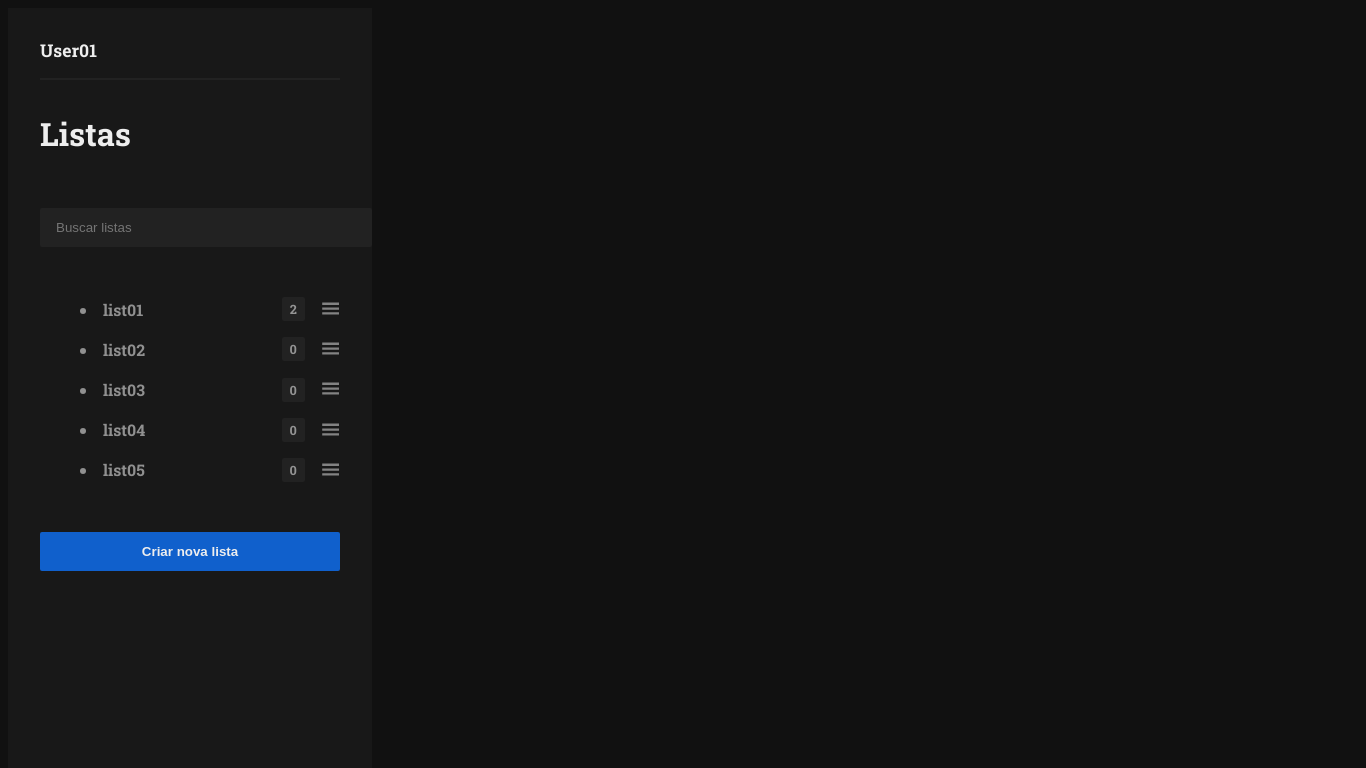
Test: Home page › Sidebar › List menu › Rename list › Catch a response error
Click the button with test id "list-menu-3".
click(331, 432)  # box [321, 420, 340, 444]
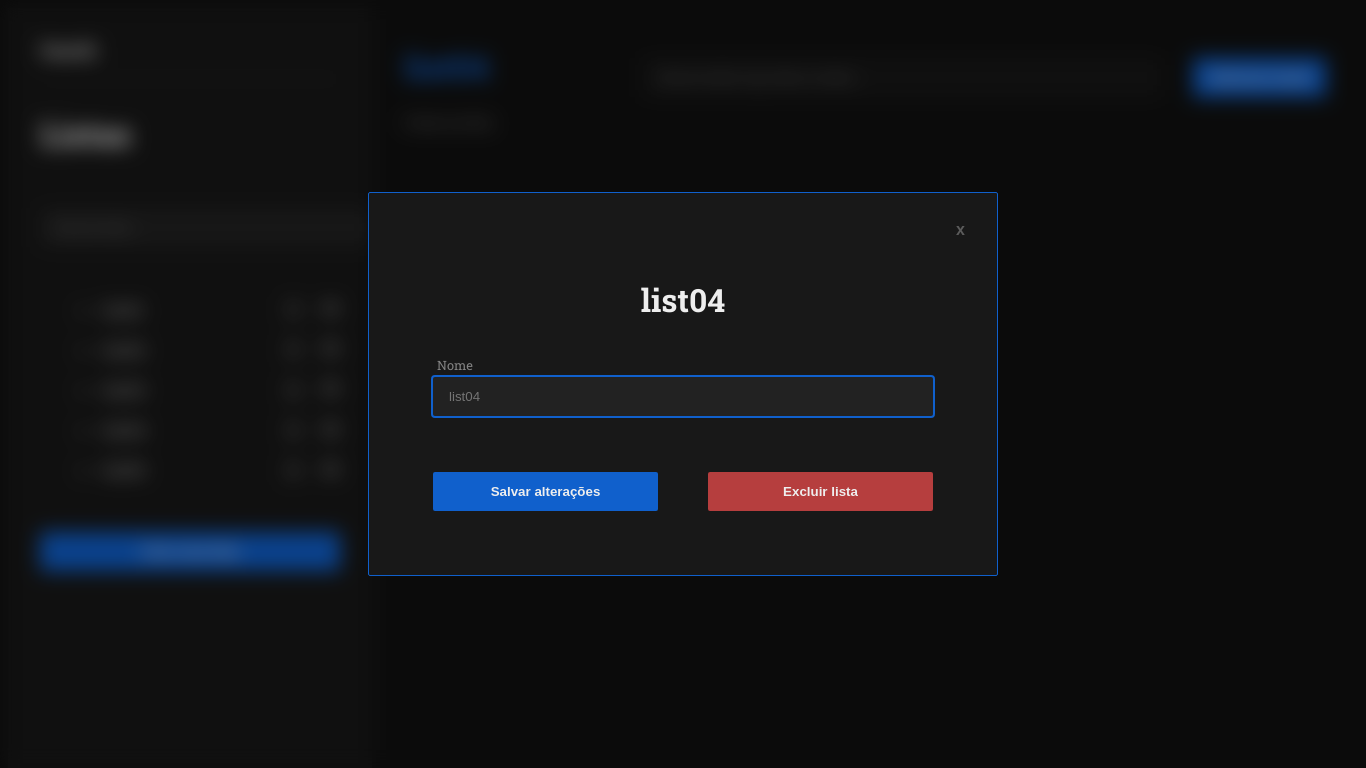
Type "name for a list" into the field with id "name".
click(683, 397); type("name for a list")  # box [433, 377, 933, 416]
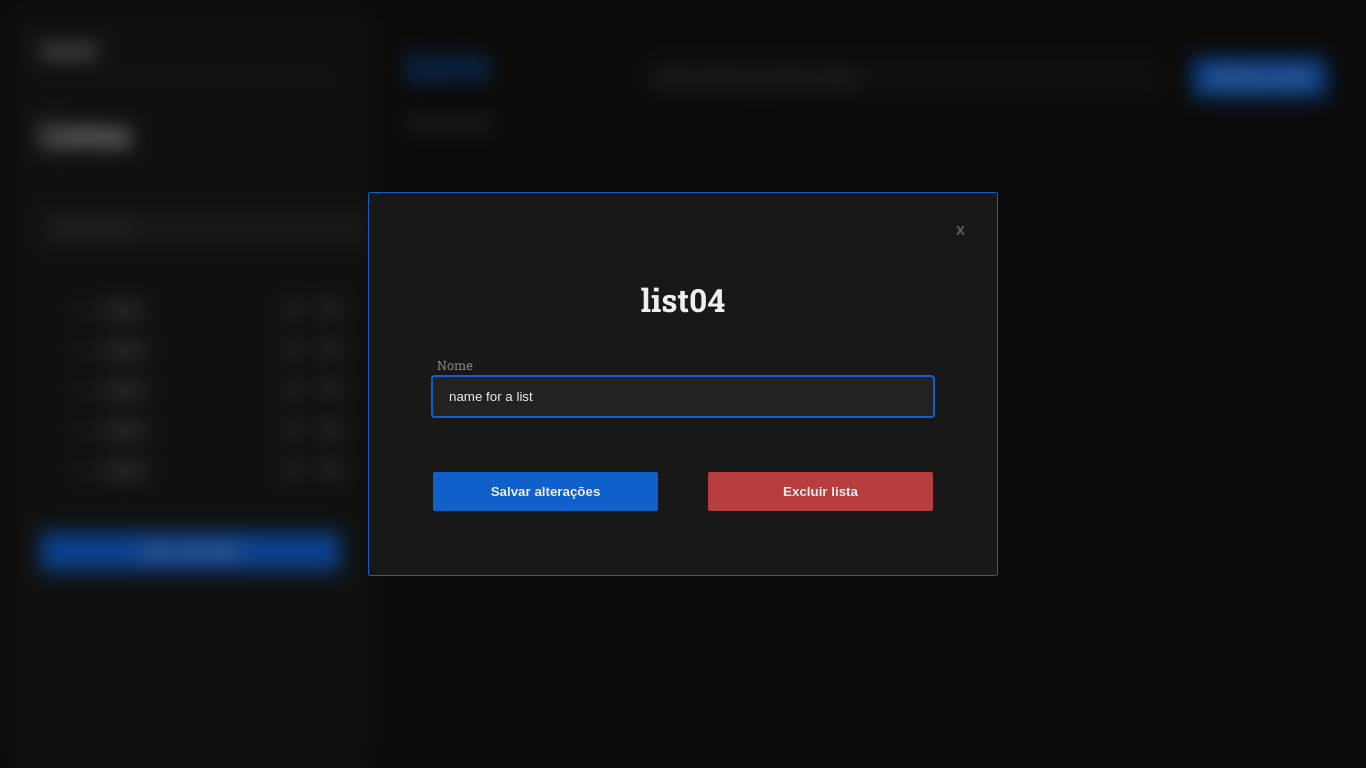
Click the button with test id "save".
click(546, 492)  # box [433, 472, 658, 511]
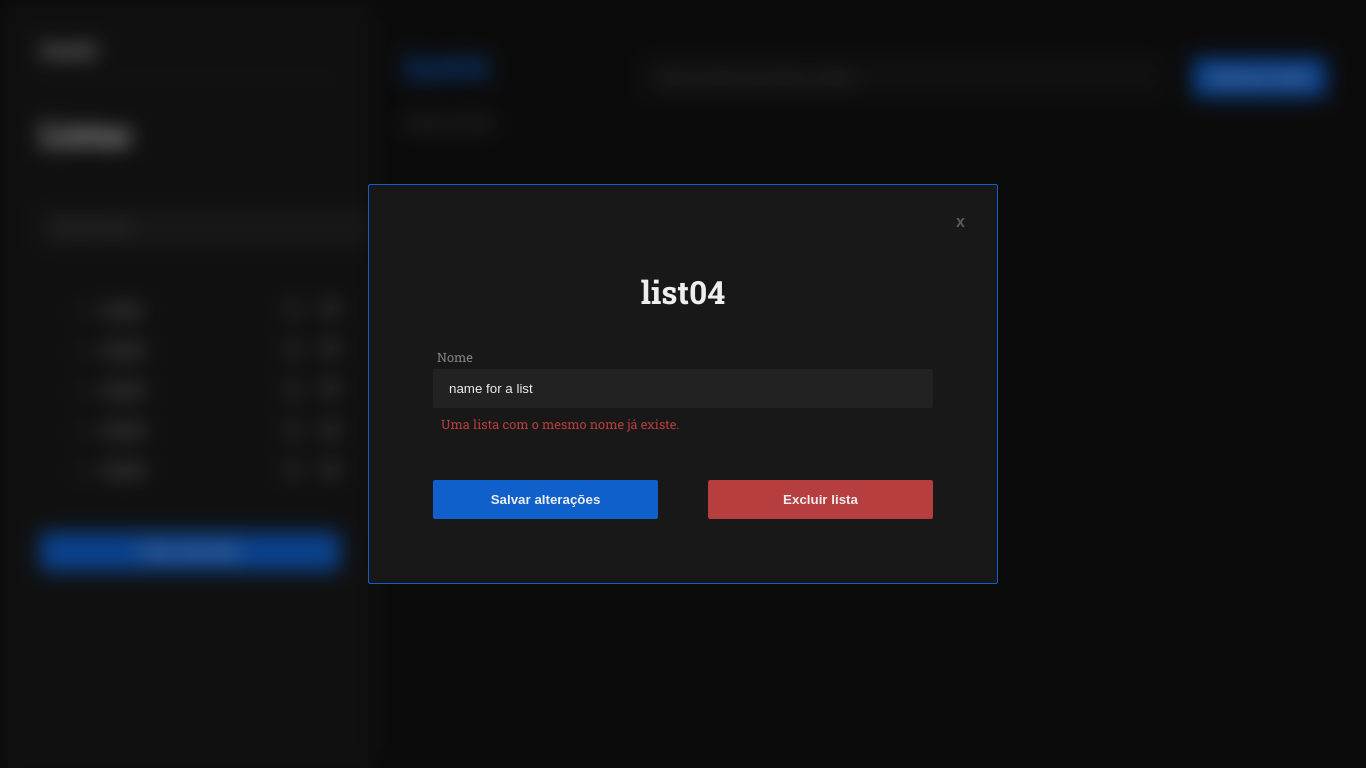
Expected: the text with test id "error" reads "Uma lista com o mesmo nome já existe.", [441, 416, 680, 432]
